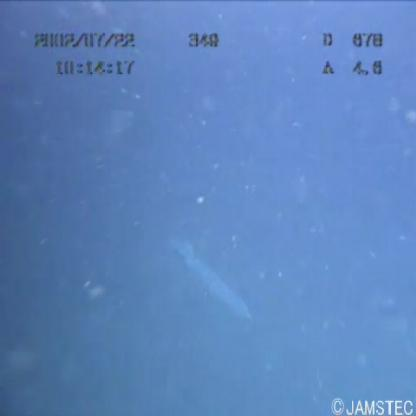Rác: (160, 224, 275, 333)
